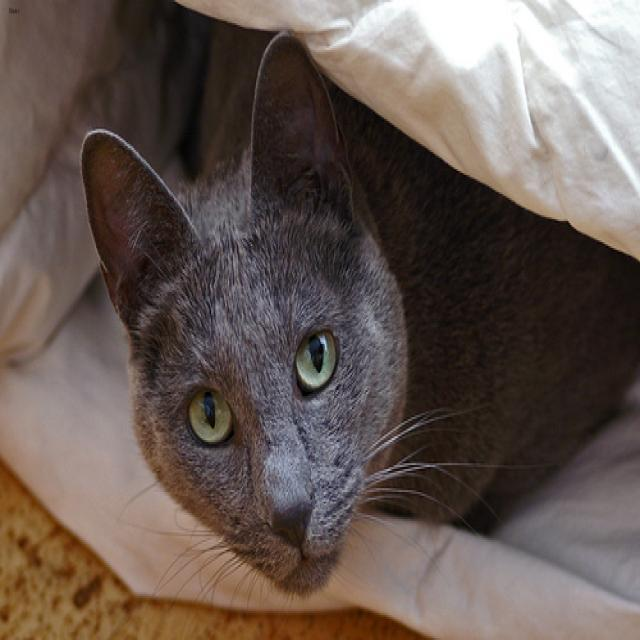Russian_Blue: (78, 24, 418, 605)
